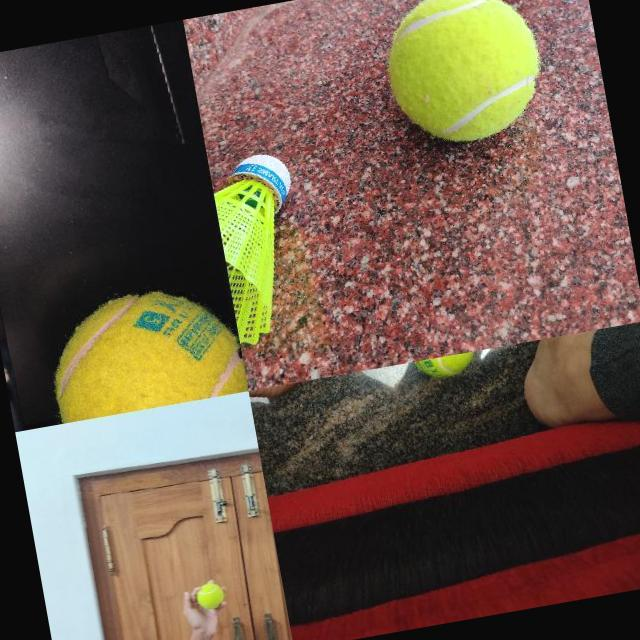Tennis Ball: (38, 275, 248, 423), (376, 0, 550, 149), (411, 350, 482, 382), (194, 580, 225, 612)
